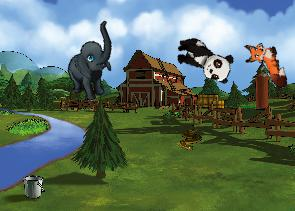elephant: (54, 20, 131, 105)
fox: (240, 35, 290, 95)
panda: (170, 33, 237, 86)
